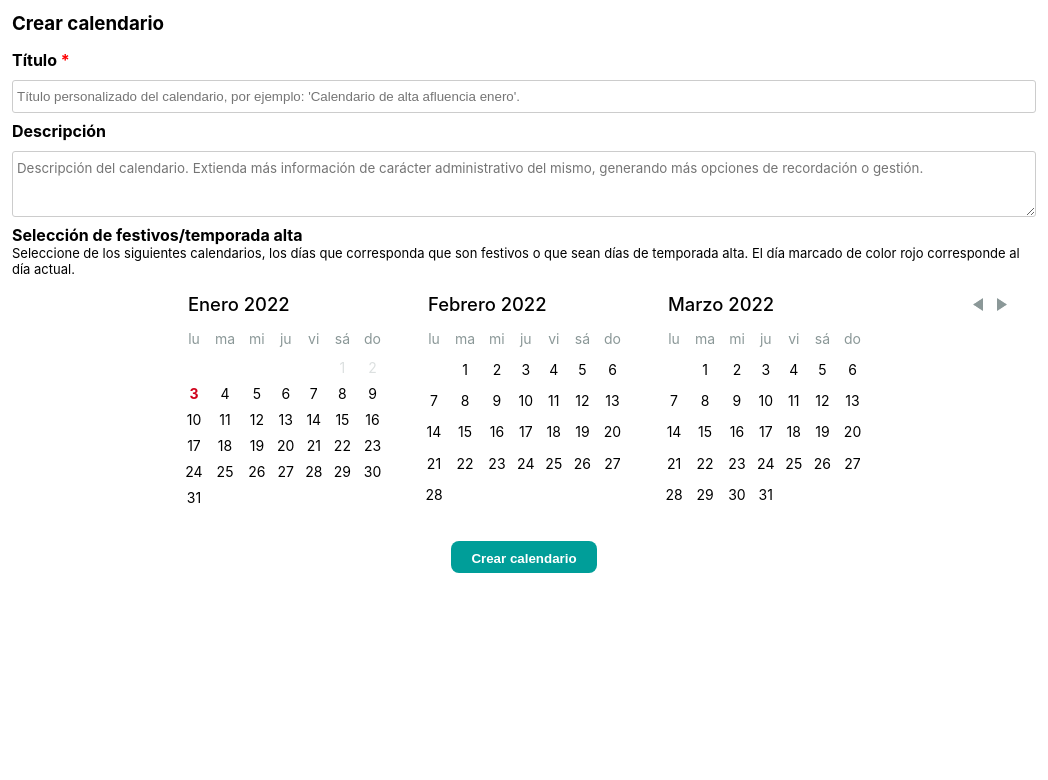
it: CrearCalendario test › Debería fallar al no tener los valores obligatorios presentes
Click the submit button at (524, 557), box 451,541 -> 597,573
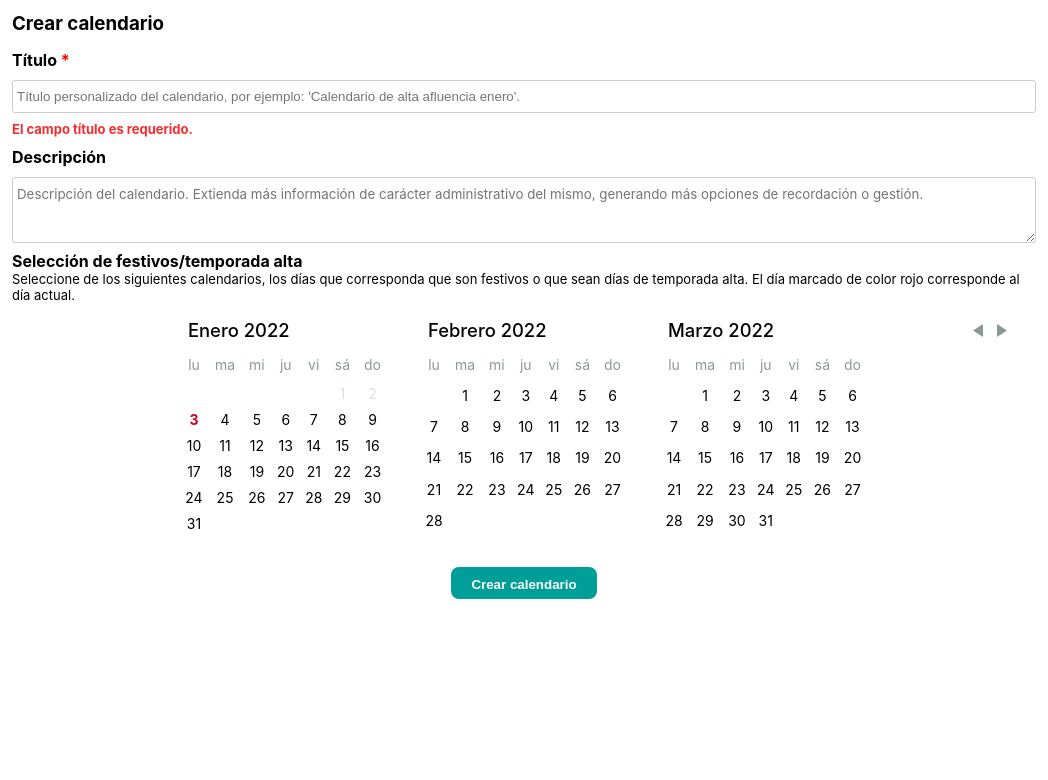
expect the text "El campo título es requerido." is shown: met, box 12,121 -> 193,137
